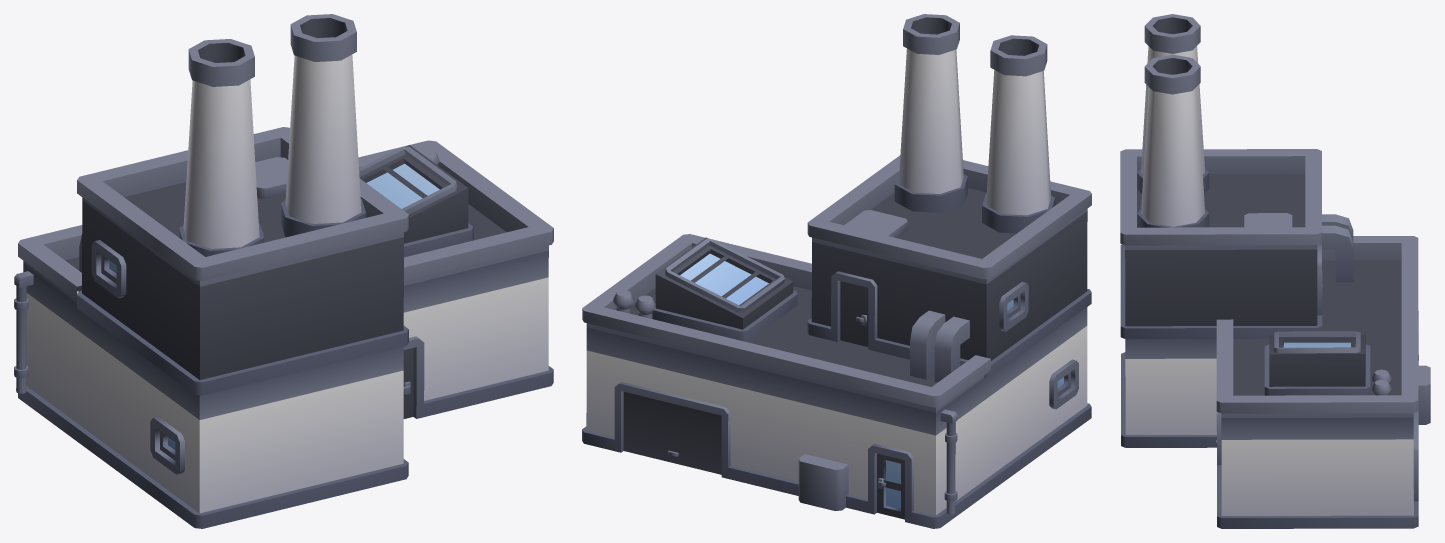
File: building-e_lev1.glb
3 views of the same model, side by side, from view 1: azimuth 30°, elevation 25°; view 2: azimuth 150°, elevation 25°; view 3: azimuth 270°, elevation 25° (orthographic). The views are drawn at different scales.
Parts seen in each view (by area): view 1: building-e_lev1; view 2: building-e_lev1; view 3: building-e_lev1.
Part boxes in pixels (bbox=[...]): building-e_lev1: bbox=[14, 14, 553, 528]; building-e_lev1: bbox=[582, 14, 1091, 528]; building-e_lev1: bbox=[1120, 14, 1430, 528].
Size of the model in its own units: 1.68 by 1.65 by 1.29.
Materials: 1 (1 with a texture image).
